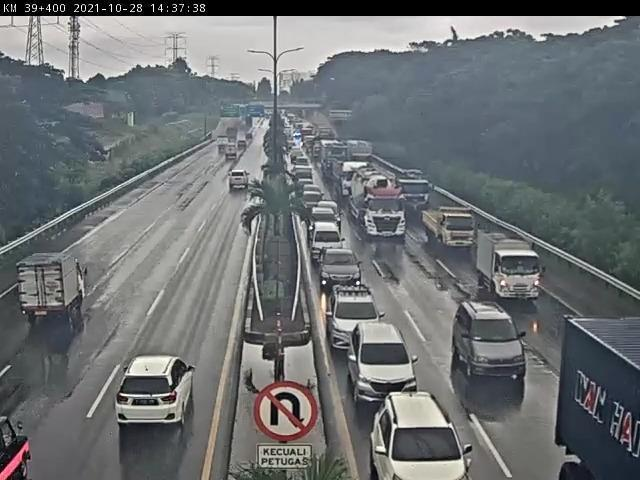car: (368, 390, 480, 480), (348, 316, 423, 411), (451, 297, 531, 383), (110, 354, 194, 434), (323, 282, 387, 352), (320, 245, 364, 295)
truck: (473, 222, 545, 305), (11, 245, 87, 323), (343, 167, 413, 244), (420, 205, 479, 255)
